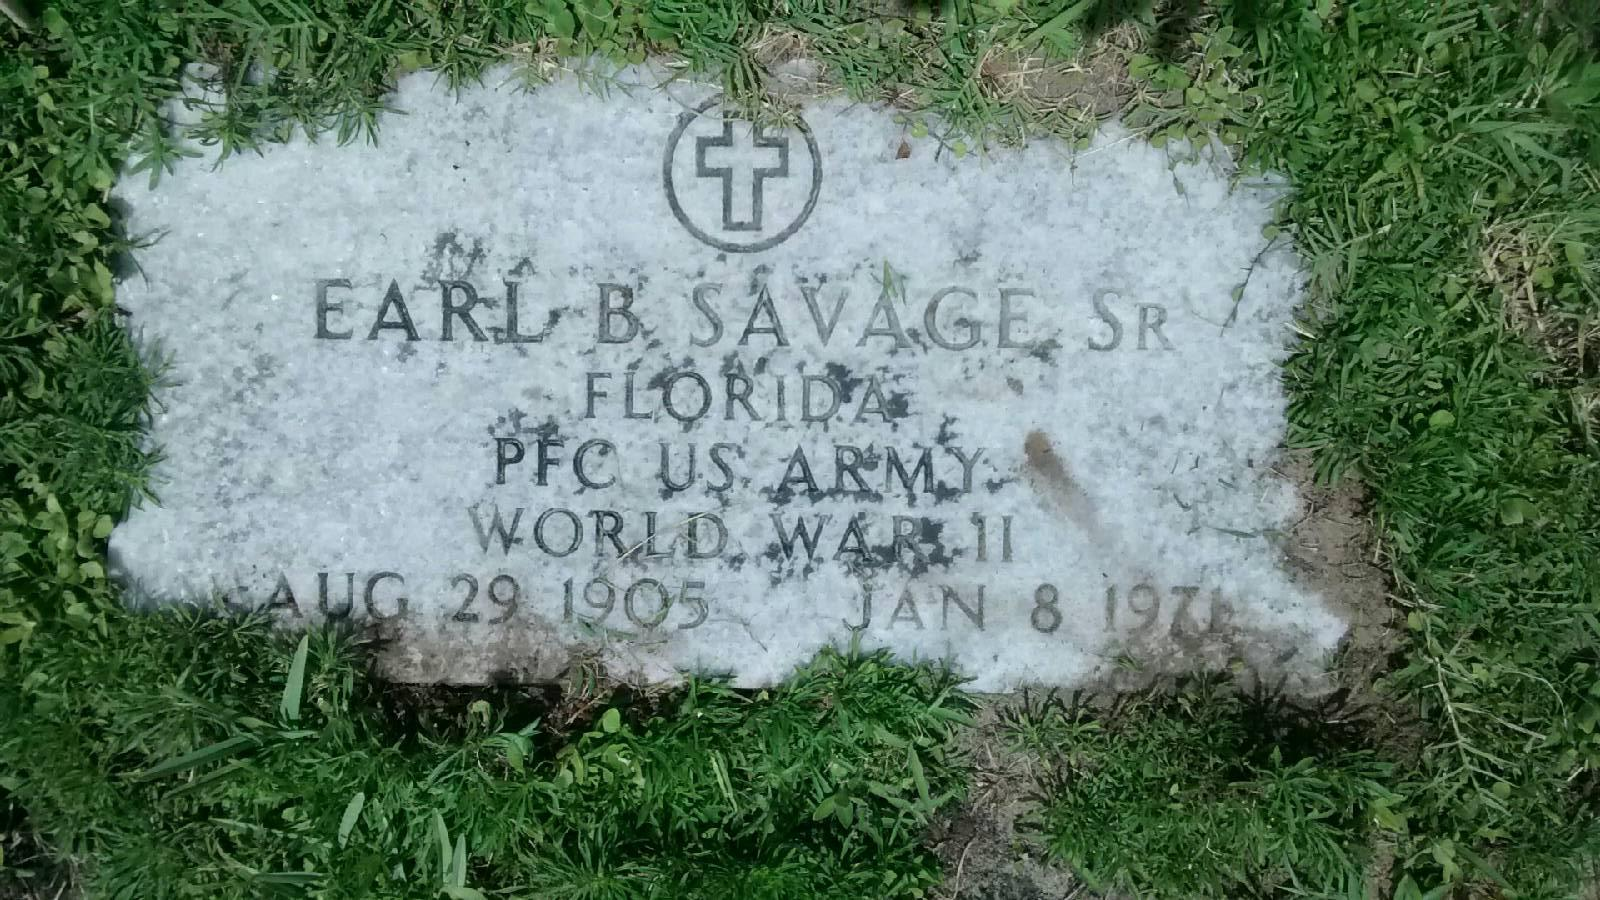flat: (59, 10, 1429, 740)
